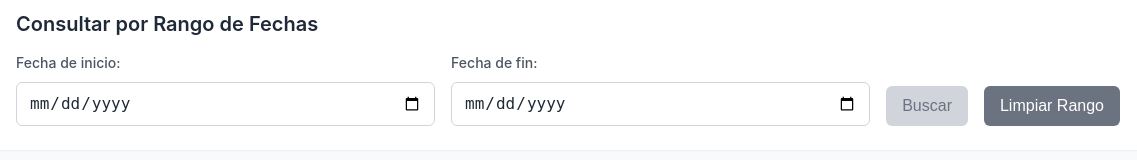
Test case: DateRangeSearch › resetea los valores de los campos cuando se hace clic en "Limpiar Rango"
Type "2025-01-01" into the date field labelled "Fecha de inicio:". click: (226, 104)
box: [16,82,435,126]
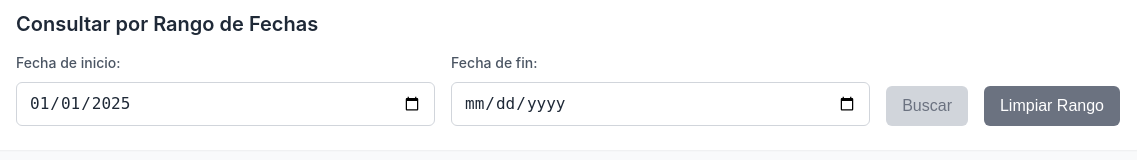
Type "2025-01-31" into the date field labelled "Fecha de fin:". click: (661, 104)
box: [451,82,870,126]
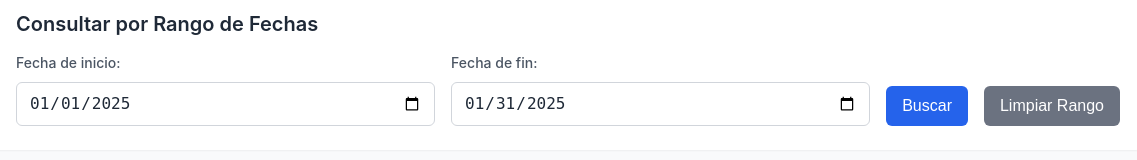
Hacer clic en el botón de limpiar
Click the button "Limpiar Rango". click: (1052, 106)
box: [984,86,1120,126]
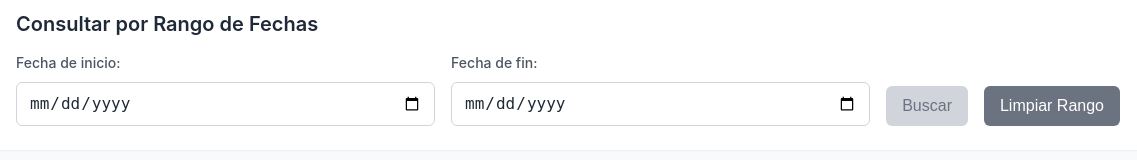
Expected: the date field labelled "Fecha de inicio:" is empty, [16,82,435,126]
Expected: the date field labelled "Fecha de fin:" is empty, [451,82,870,126]
